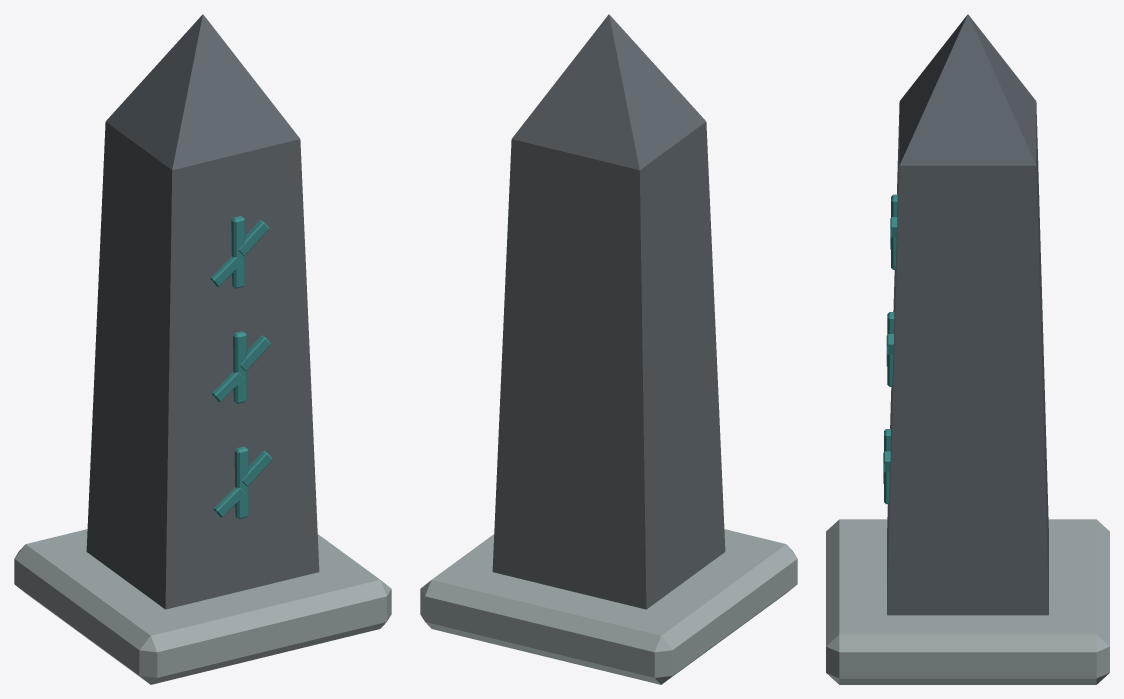
The model's file is 12_Rune_Obelisk.glb.
The picture shows the model from 3 angles, left to right: view 1: azimuth 30°, elevation 25°; view 2: azimuth 150°, elevation 25°; view 3: azimuth 270°, elevation 25°; orthographic projection. The views are drawn at different scales.
Parts seen in each view (by area): view 1: 12_Rune_Obelisk__Body; view 2: 12_Rune_Obelisk__Body; view 3: 12_Rune_Obelisk__Body.
Boxes of the visible parts, <box> form: 12_Rune_Obelisk__Body: <box>14,14,391,684</box>; 12_Rune_Obelisk__Body: <box>420,14,797,684</box>; 12_Rune_Obelisk__Body: <box>826,14,1109,684</box>.
Size of the model in its own units: 1.18 by 2.67 by 1.12.
1 material, 1 textured.
